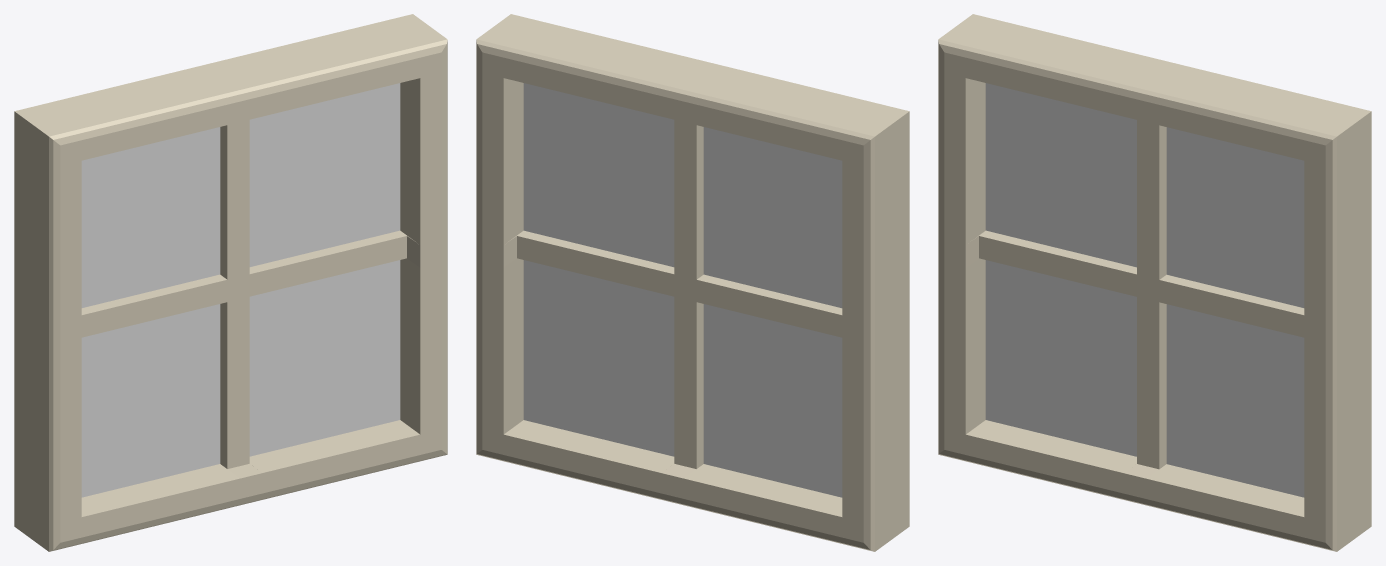
The model's file is large_window.fbx.
3 renders of one model, left to right at view 1: azimuth 30°, elevation 25°; view 2: azimuth 150°, elevation 25°; view 3: azimuth 330°, elevation 25°, orthographic.
Visible parts, largest first — view 1: large_window, Plane.003; view 2: large_window, Plane.003; view 3: large_window, Plane.003.
Part boxes in pixels (x1,y1,x2,y2): large_window: (14,14,447,551); Plane.003: (81,83,400,497); large_window: (476,14,909,551); Plane.003: (523,83,842,497); large_window: (938,14,1371,551); Plane.003: (985,83,1304,497).
Bounding box in the file's own units: 163 × 163 × 28.39.
